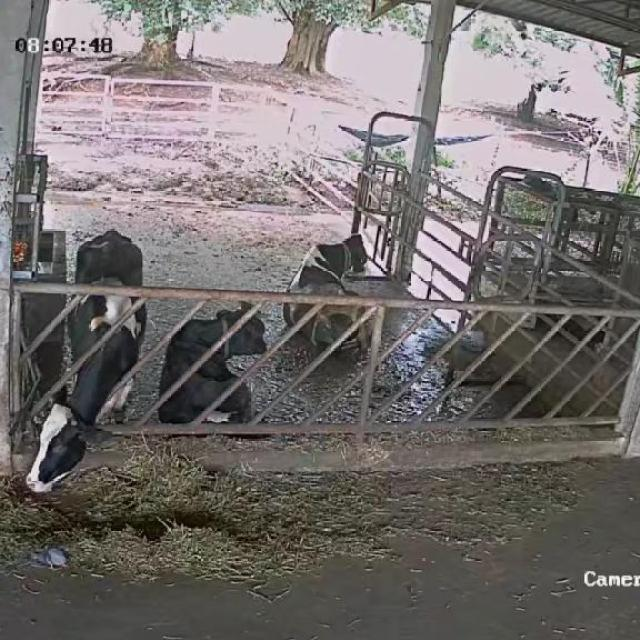feeding: (24, 230, 153, 499)
lying down: (162, 304, 272, 442), (282, 234, 383, 360)
